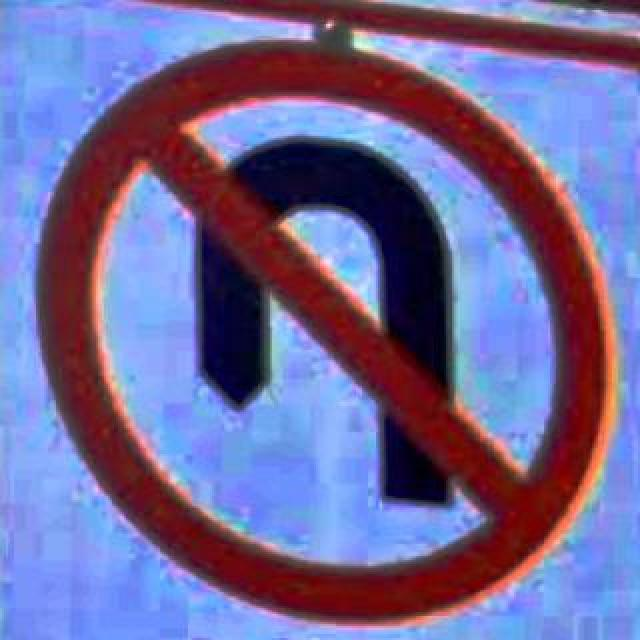no u turn: (38, 22, 616, 630)
